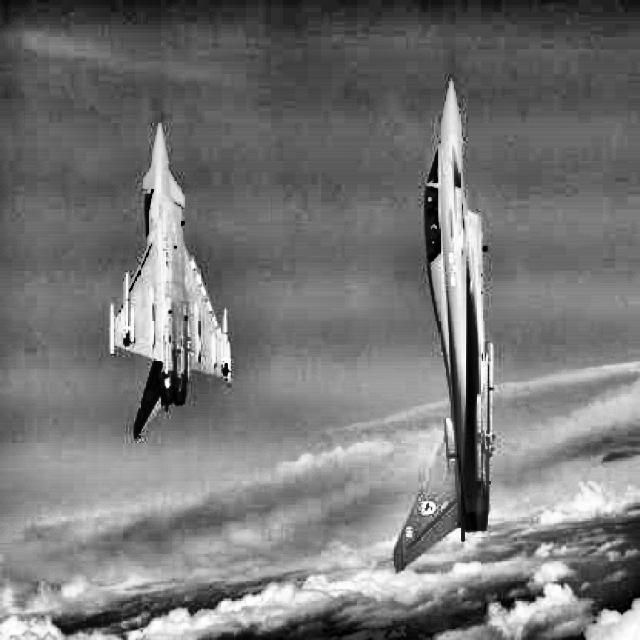EF2000: (392, 79, 496, 575), (109, 122, 231, 441)
